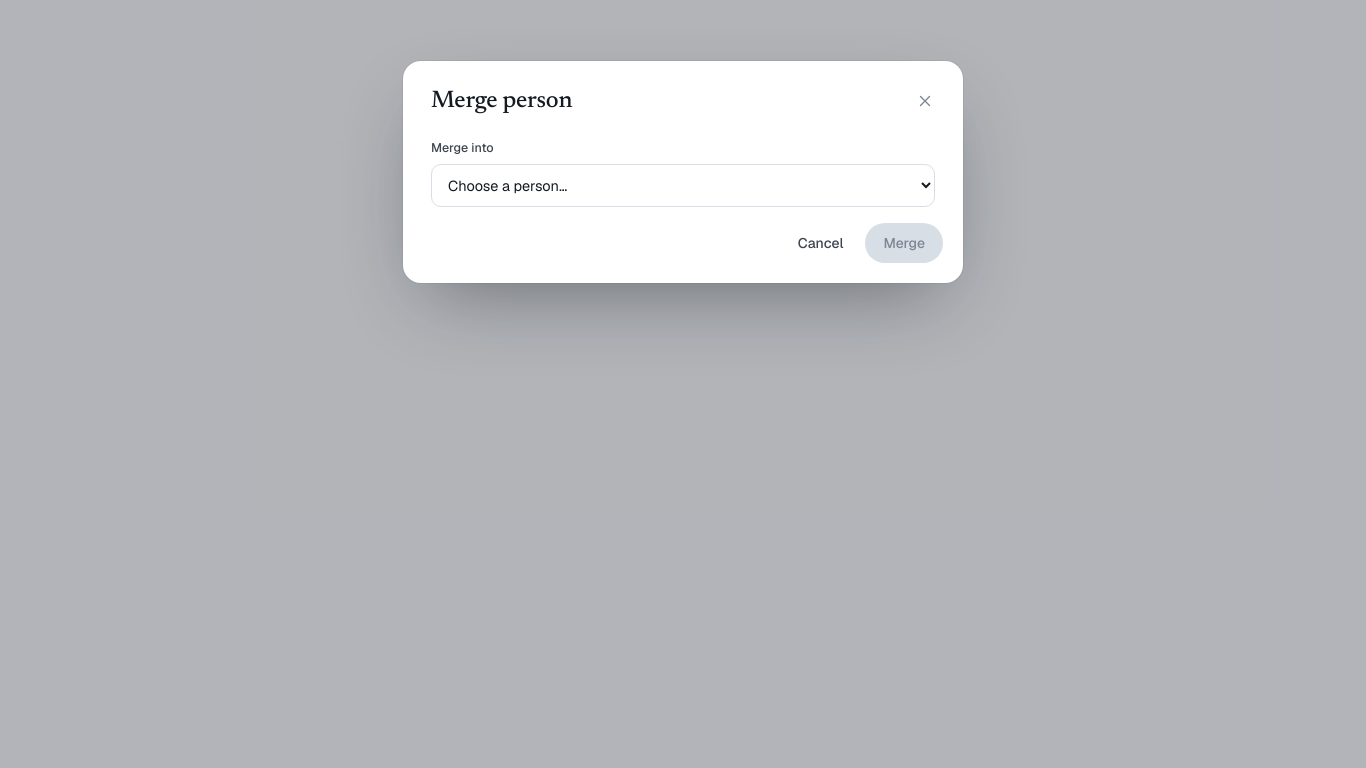
MergePersonDialog › names both people in the confirm copy once a target is chosen, and disables Merge before
Expected: the button "Merge" is disabled, [865,223,943,263]
Select "Amy First" in the dropdown labelled "Merge into" at (683, 186), box [431,164,935,207]
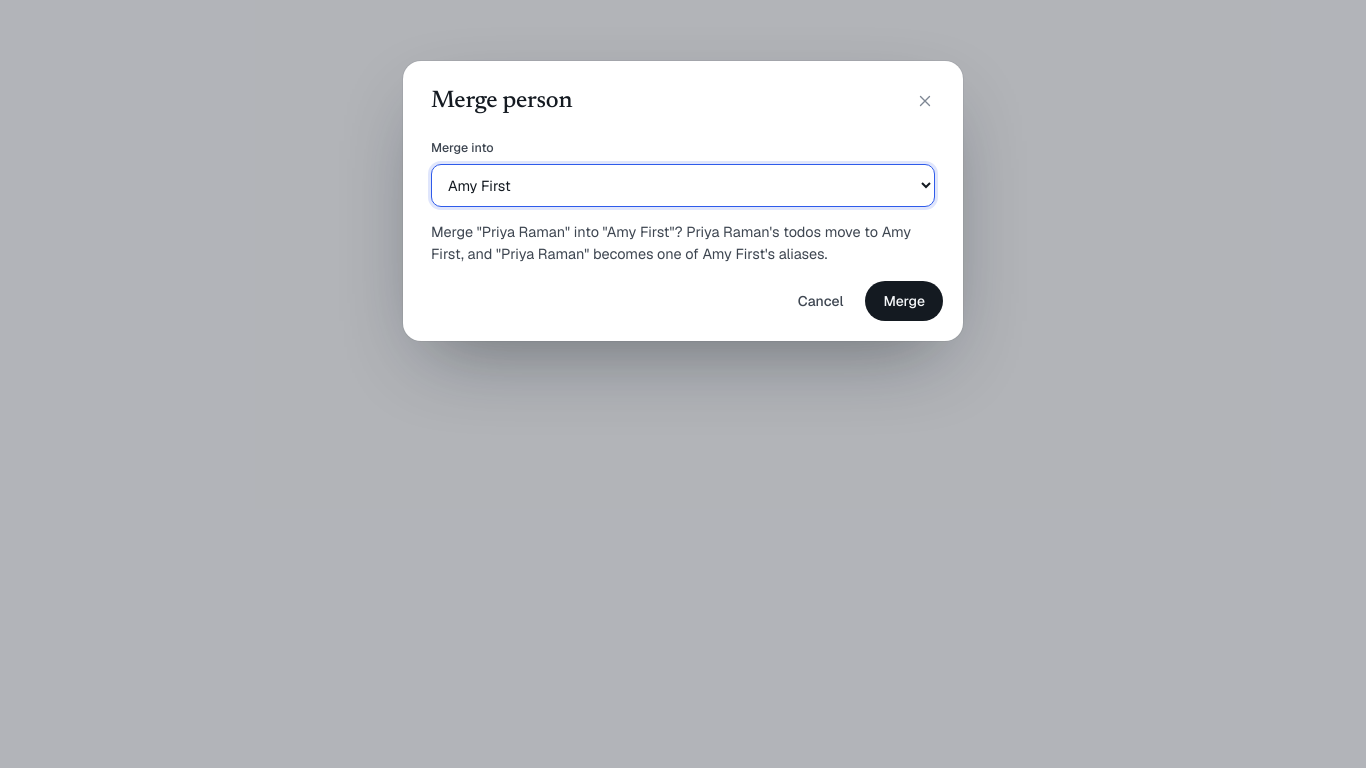
Now the text "Merge \"Priya Raman\" into \"Amy First\"? Priya Raman's todos move to Amy First, and \"Priya Raman\" becomes one of Amy First'" is shown, box [431,222,911,263]
